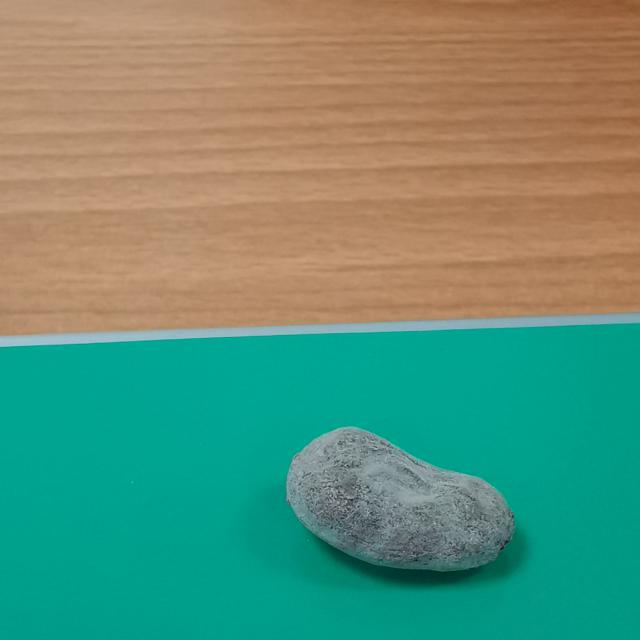Fine_cocoabeans: (222, 390, 572, 632)
